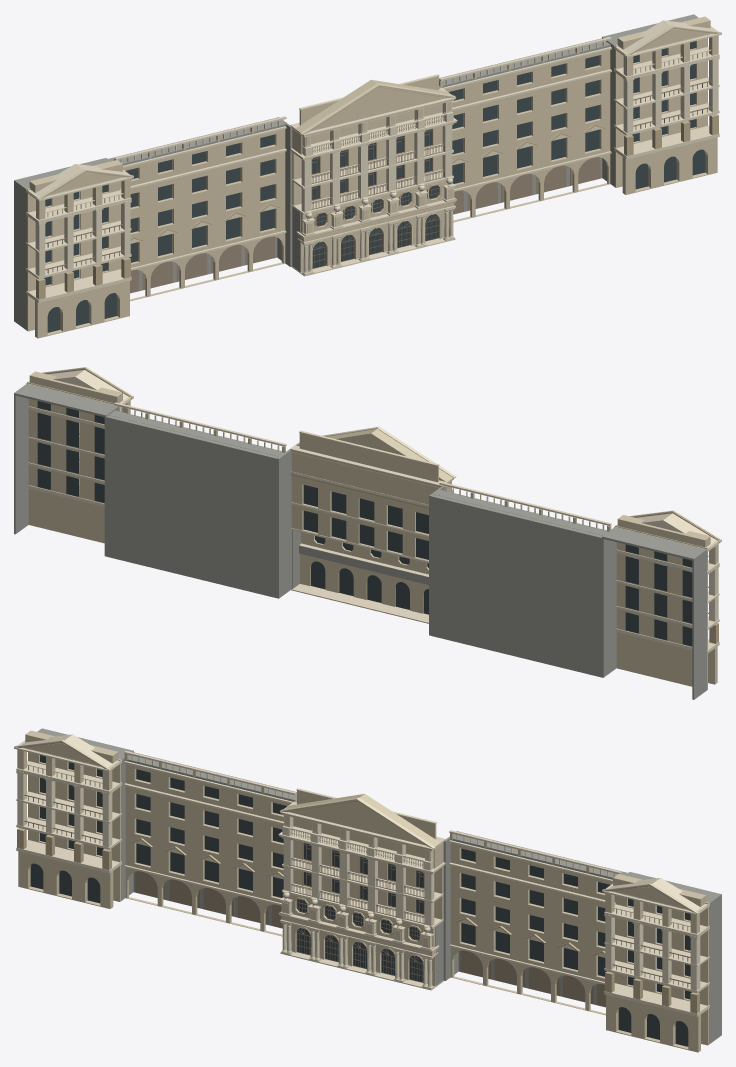
Rendered from jingan-country-hospital-garden-front-lod.glb.
3 views of the same model, one above another, from view 1: azimuth 30°, elevation 25°; view 2: azimuth 150°, elevation 25°; view 3: azimuth 330°, elevation 25° (orthographic).
Visible parts, largest first — view 1: 宏恩医院历史主楼花园立面（三处山花与两段拱廊窗墙）; view 2: 宏恩医院历史主楼花园立面（三处山花与两段拱廊窗墙）; view 3: 宏恩医院历史主楼花园立面（三处山花与两段拱廊窗墙）.
Part boxes in pixels (x1,y1,x2,y2): 宏恩医院历史主楼花园立面（三处山花与两段拱廊窗墙）: (14, 14, 721, 338); 宏恩医院历史主楼花园立面（三处山花与两段拱廊窗墙）: (14, 367, 721, 699); 宏恩医院历史主楼花园立面（三处山花与两段拱廊窗墙）: (14, 728, 721, 1052).
Bounding box in the file's own units: 77.91 × 18.8 × 5.34.
